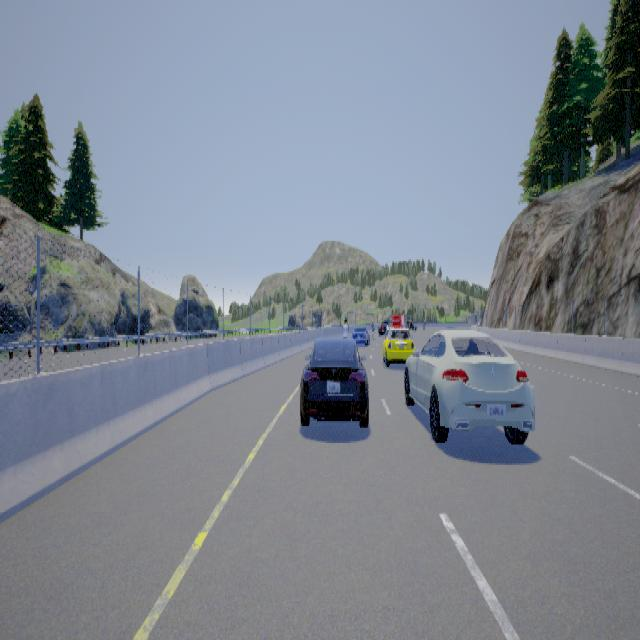vehicle: (403, 314, 534, 442), (299, 325, 369, 426), (381, 322, 415, 369)
